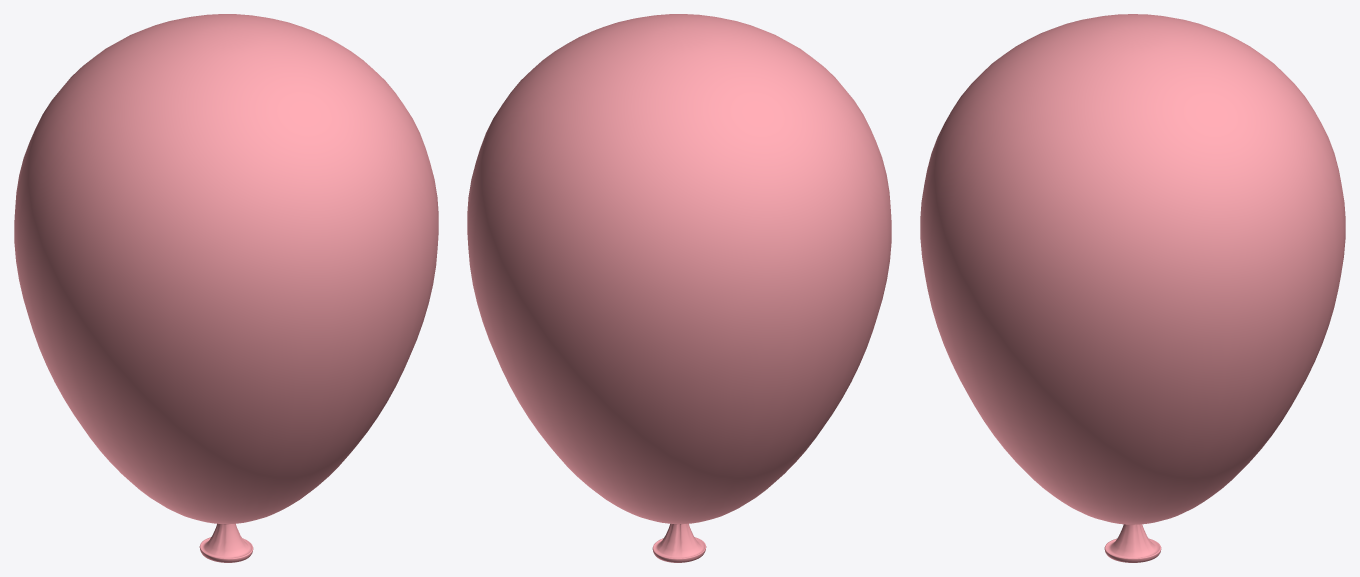
Rendered from ballon.glb.
3 renders of one model, left to right at view 1: azimuth 30°, elevation 25°; view 2: azimuth 150°, elevation 25°; view 3: azimuth 270°, elevation 25°, orthographic.
Parts seen in each view (by area): view 1: Balloon; view 2: Balloon; view 3: Balloon.
Boxes of the visible parts, x1=… form: Balloon: x1=14, y1=14, x2=438, y2=562; Balloon: x1=467, y1=14, x2=891, y2=562; Balloon: x1=920, y1=14, x2=1345, y2=562.
Bounding box in the file's own units: 0.8871 × 1.19 × 0.8871.
